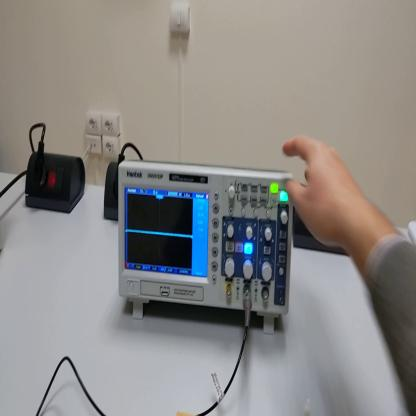hand: (281, 134, 361, 251)
oscilloscope: (118, 160, 296, 332)
socket: (26, 150, 87, 213), (105, 162, 118, 221)
